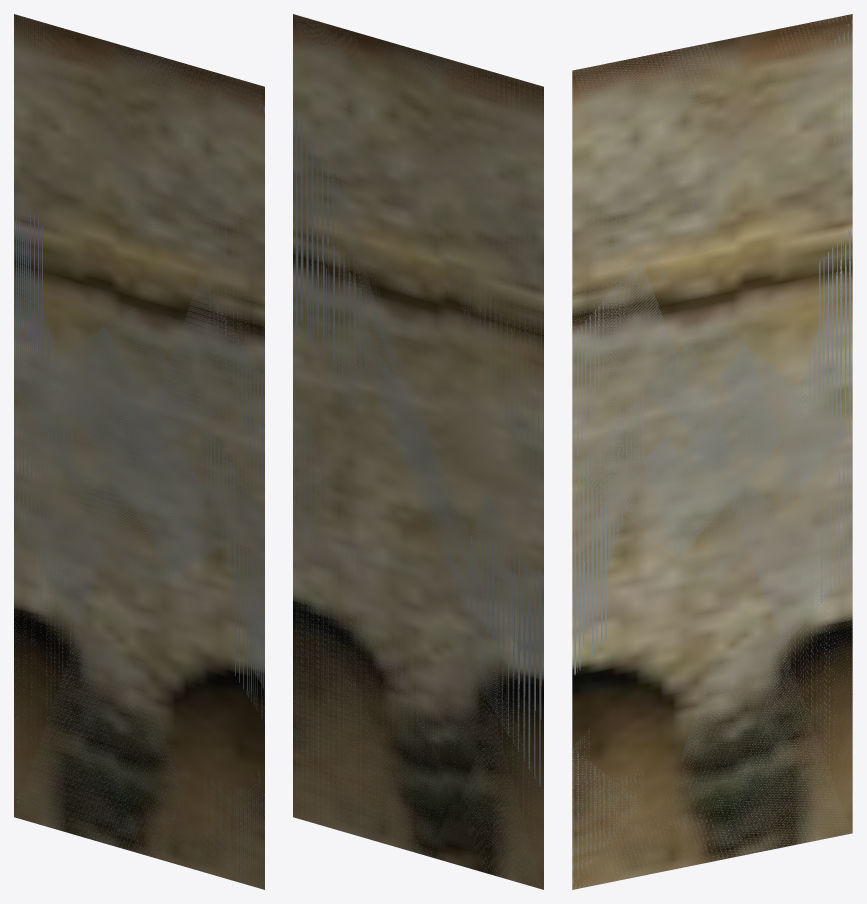
Rendered from 西庸城堡97.dae.
3 views of the same model, side by side, from view 1: azimuth 30°, elevation 25°; view 2: azimuth 210°, elevation 25°; view 3: azimuth 270°, elevation 25° (orthographic). The views are drawn at different scales.
Parts seen in each view (by area): view 1: SketchUp; view 2: SketchUp; view 3: SketchUp.
Part boxes in pixels (bbox=[...]): SketchUp: bbox=[14, 14, 264, 889]; SketchUp: bbox=[293, 14, 543, 889]; SketchUp: bbox=[572, 14, 852, 889].
Size of the model in its own units: 17.49 by 36.6 by 118.
